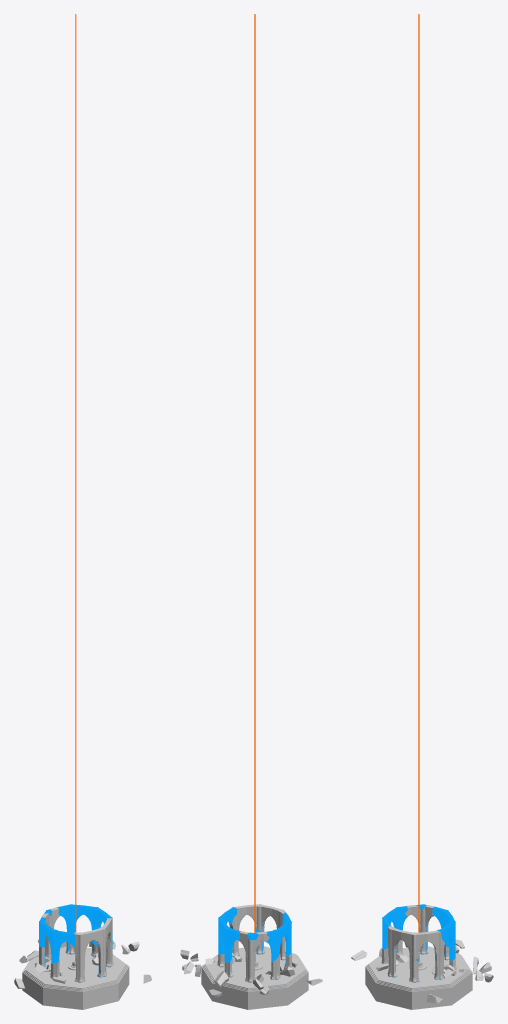
File: temple.glb
The picture shows the model from 3 angles, left to right: view 1: azimuth 30°, elevation 25°; view 2: azimuth 150°, elevation 25°; view 3: azimuth 330°, elevation 25°; orthographic projection.
Visible parts, largest first — view 1: Temple Steps, Temple Merged.001_cell.047, Temple Hologram, Light Shaft; view 2: Temple Steps, Temple Merged.001_cell.047, Light Shaft, Temple Hologram; view 3: Temple Steps, Temple Merged.001_cell.047, Light Shaft, Temple Hologram.
Part boxes in pixels (x1,y1,x2,y2): Temple Steps: (22,946,129,1009); Temple Merged.001_cell.047: (19,907,113,983); Temple Hologram: (39,904,112,982); Light Shaft: (75,14,76,961); Temple Steps: (201,946,308,1009); Temple Merged.001_cell.047: (205,904,298,994); Light Shaft: (254,14,255,961); Temple Hologram: (218,907,291,982); Temple Steps: (365,946,472,1009); Temple Merged.001_cell.047: (375,905,467,982); Light Shaft: (418,14,419,961); Temple Hologram: (382,904,455,982).
Bounding box in the file's own units: 25.73 × 182 × 23.34.
